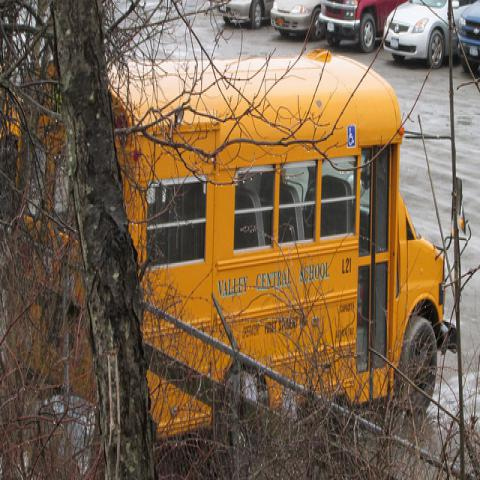bus: (1, 49, 463, 448)
car: (383, 3, 476, 66), (270, 0, 325, 42), (460, 0, 479, 81), (226, 3, 274, 26)
truck: (320, 0, 404, 63), (458, 0, 480, 82)
